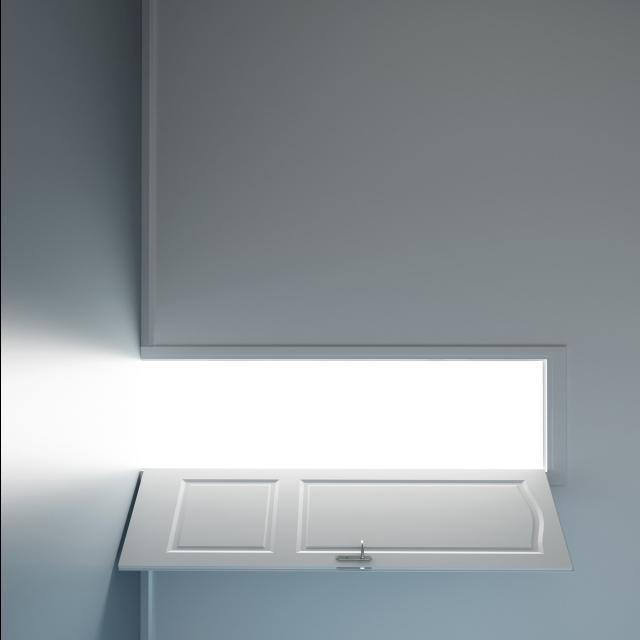open: (119, 346, 561, 572)
